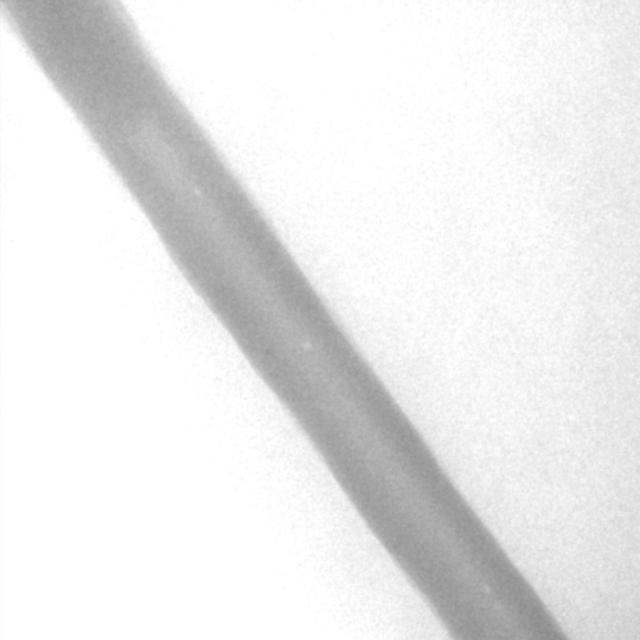air hole: (191, 182, 204, 200), (298, 339, 312, 353), (481, 581, 492, 596)
